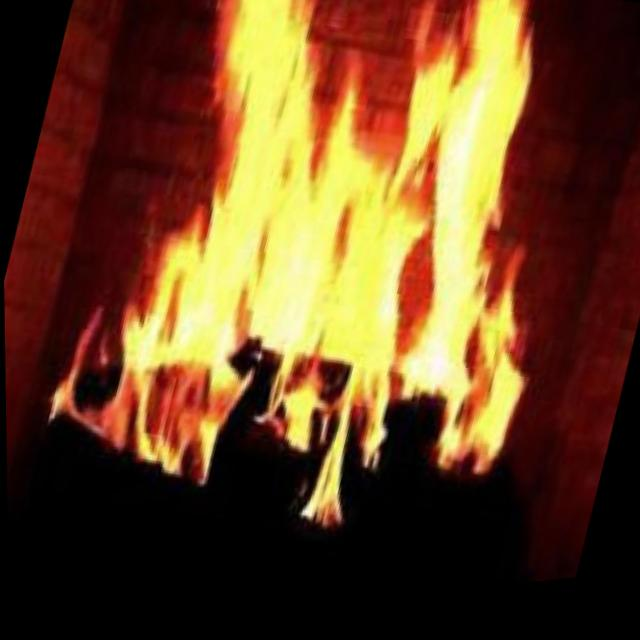Fire: (125, 0, 602, 498)
